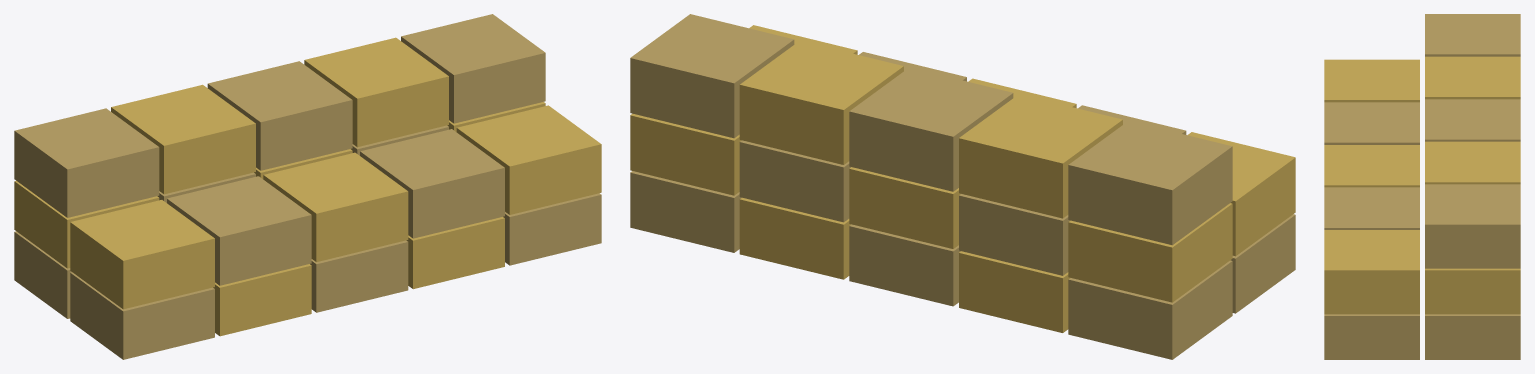
The model's file is hay stack.glb.
3 renders of one model, left to right at view 1: azimuth 30°, elevation 25°; view 2: azimuth 150°, elevation 25°; view 3: azimuth 270°, elevation 25°, orthographic. The views are drawn at different scales.
Parts seen in each view (by area): view 1: hay stack; view 2: hay stack; view 3: hay stack.
Boxes of the visible parts, <box> form: hay stack: <box>14,14,601,359</box>; hay stack: <box>630,14,1295,359</box>; hay stack: <box>1324,14,1520,359</box>.
Bounding box in the file's own units: 4.95 × 1.48 × 1.95.
